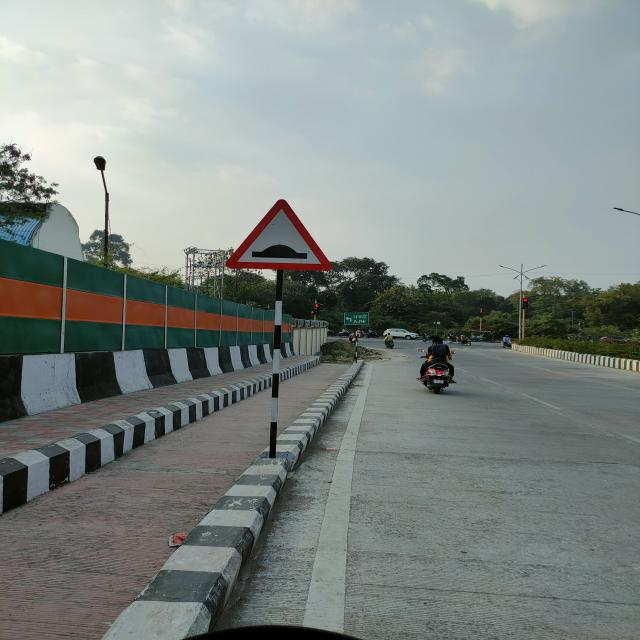HUMP_OR_ROUGH_ROAD: (226, 200, 333, 271)
